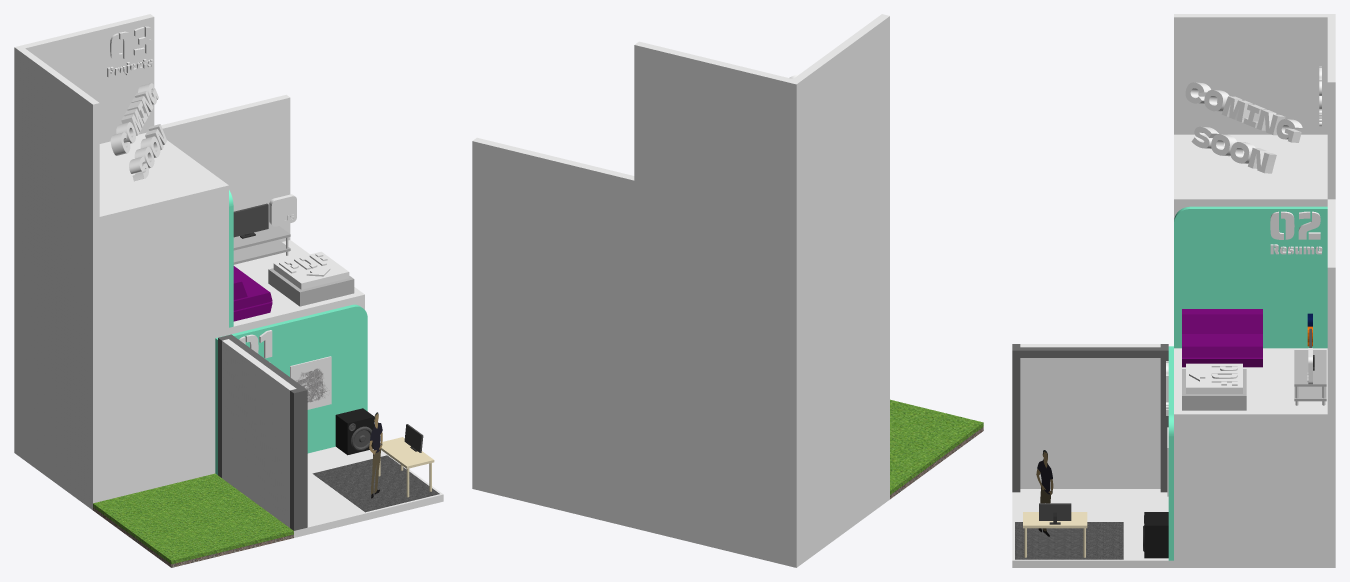
3 renders of one model, left to right at view 1: azimuth 30°, elevation 25°; view 2: azimuth 150°, elevation 25°; view 3: azimuth 270°, elevation 25°, orthographic. The views are drawn at different scales.
Visible parts, largest first — view 1: group_3, group_42, group_2, group_47, group_44, group_1, group_9, image_0, group_10, group_39, instance_4, group_29 (+7 smaller); view 2: group_3, group_42; view 3: group_3, group_2, group_46, group_1, group_44, COMING_SOON (×6), group_15, group_14, group_9, group_47, group_10, group_39 (+6 smaller).
Boxes of the visible parts, x1,y1,x2,y2 form: group_3: (14, 14, 443, 537); group_42: (93, 473, 293, 564); group_2: (222, 339, 296, 527); group_47: (215, 304, 367, 474); group_44: (312, 455, 439, 512); group_1: (218, 334, 307, 530); group_9: (268, 268, 354, 306); image_0: (290, 357, 331, 409); group_10: (273, 251, 349, 289); group_39: (335, 408, 374, 455); instance_4: (110, 26, 153, 60); group_29: (380, 437, 434, 468); group_3: (472, 14, 889, 567); group_42: (890, 399, 983, 494); group_3: (1012, 14, 1335, 567); group_2: (1020, 344, 1160, 488); group_46: (1174, 206, 1327, 348); group_1: (1012, 344, 1168, 492); group_44: (1015, 522, 1123, 559); COMING_SOON (×6): (1185, 82, 1302, 173); group_15: (1182, 309, 1262, 333); group_14: (1182, 334, 1262, 357); group_9: (1182, 369, 1246, 410); group_47: (1168, 346, 1173, 560); group_10: (1186, 363, 1242, 393); group_39: (1144, 512, 1168, 558).
Bounding box in the file's own units: 240 × 240 × 342.
23 materials, 5 textured.
